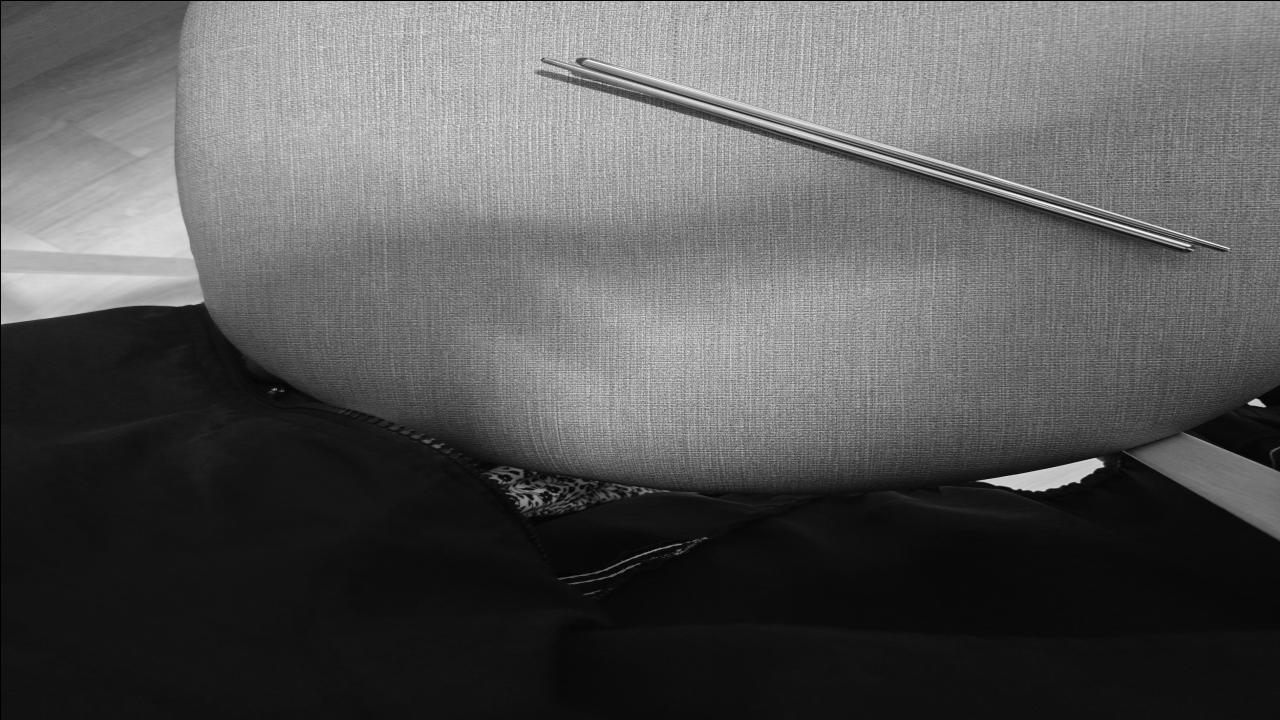chopstick: (542, 56, 1220, 250)
